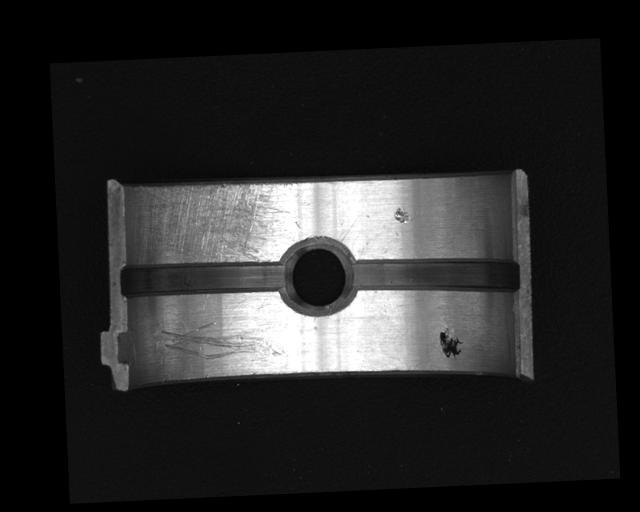blot: (438, 327, 464, 360)
bruise: (392, 205, 411, 224)
gap: (346, 252, 522, 297), (118, 256, 289, 301)
hole: (277, 239, 358, 318)
nick: (159, 318, 284, 364), (338, 212, 364, 243)
scratch: (130, 177, 304, 269)
